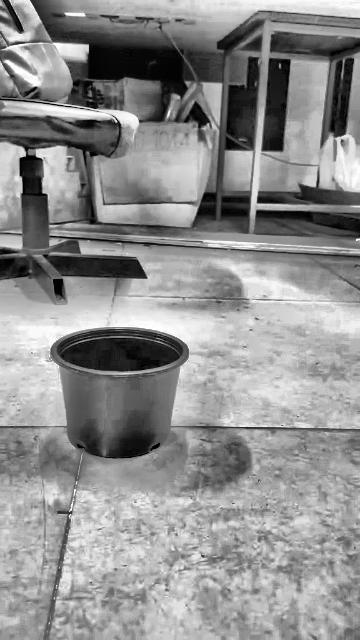pot: (51, 328, 188, 459)
